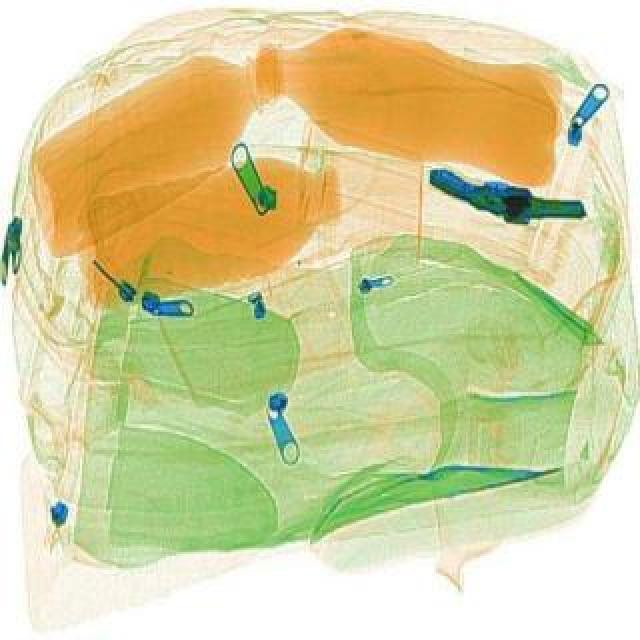gun: (418, 162, 592, 248)
